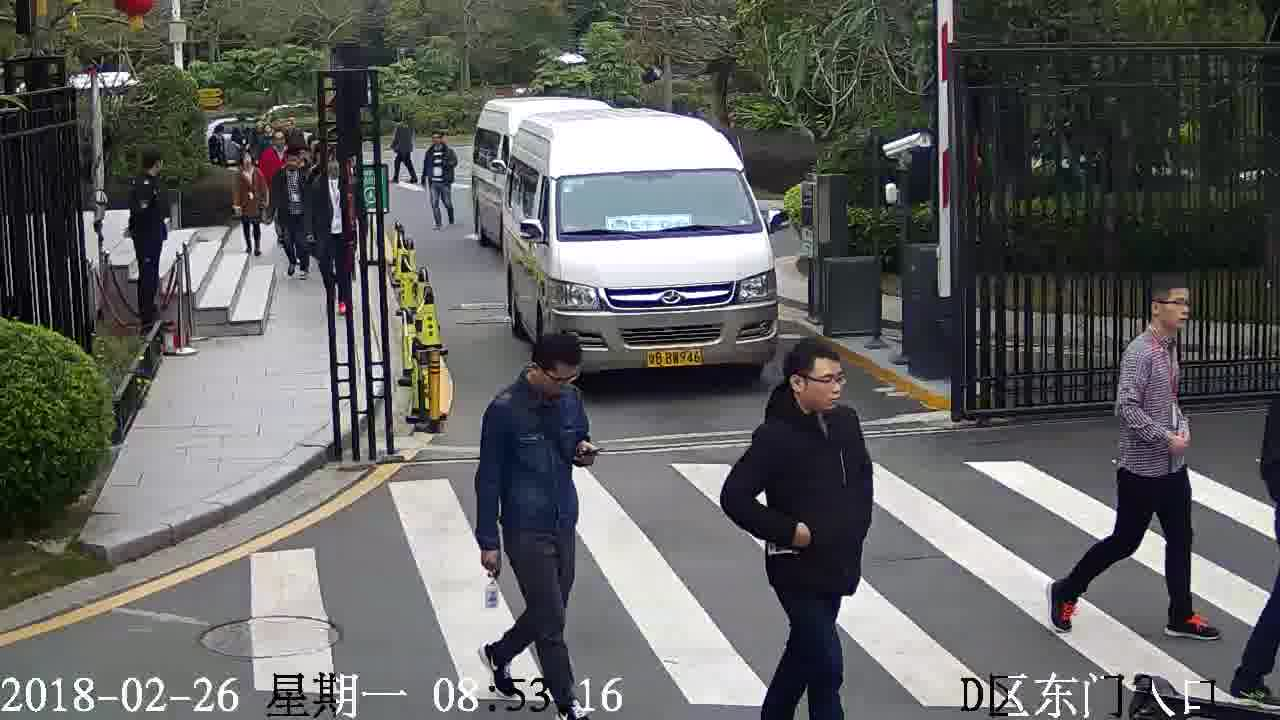face: (794, 357, 850, 412), (1151, 287, 1194, 329)
person: (751, 338, 867, 462), (484, 335, 586, 429), (1121, 277, 1196, 374), (131, 146, 167, 195), (310, 146, 346, 193), (275, 142, 306, 183), (230, 150, 263, 184), (259, 126, 291, 161), (424, 127, 454, 157)
